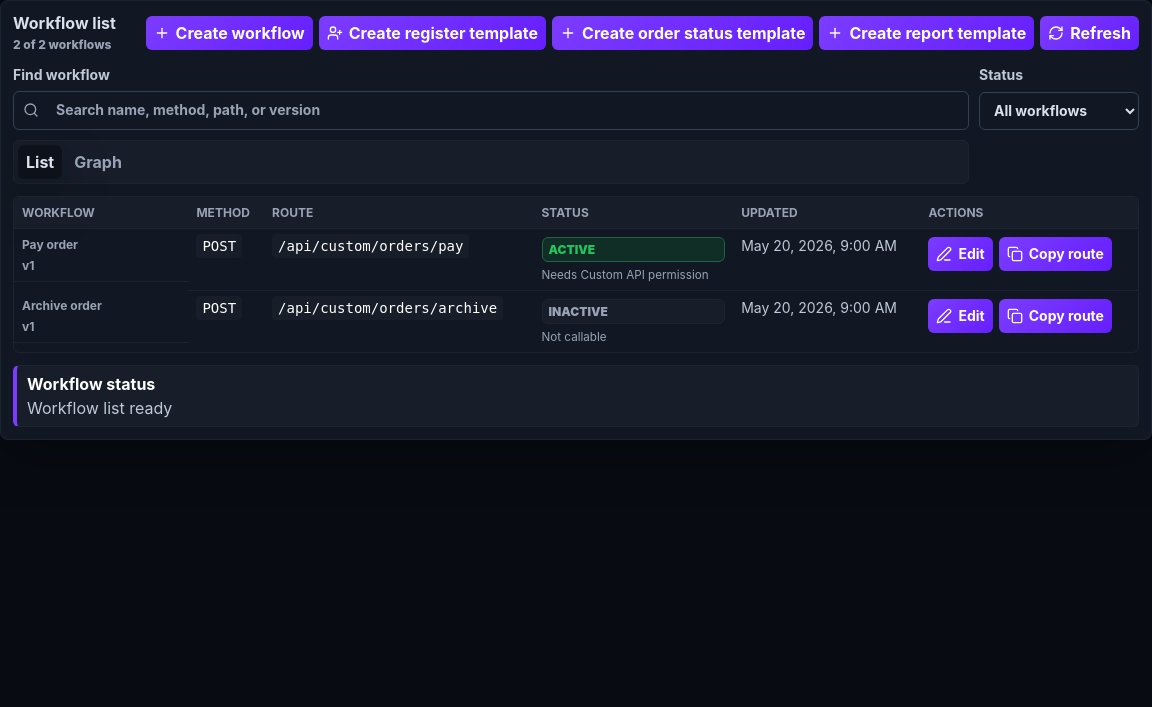
it: WorkflowManager › runs a workflow test from the edit panel
Click the button "Edit" in the row of "Pay order": (961, 254) [928, 237, 993, 271]
(page scrolled)
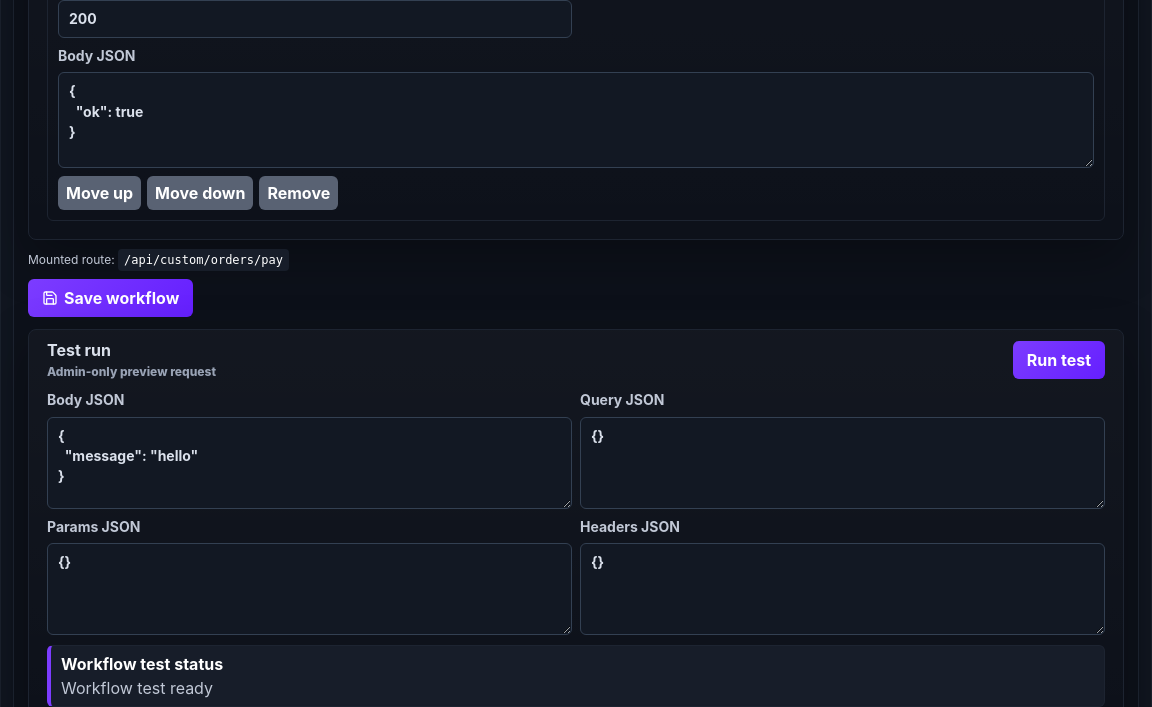
Click the button "Run test": (1059, 360) [1013, 341, 1105, 379]
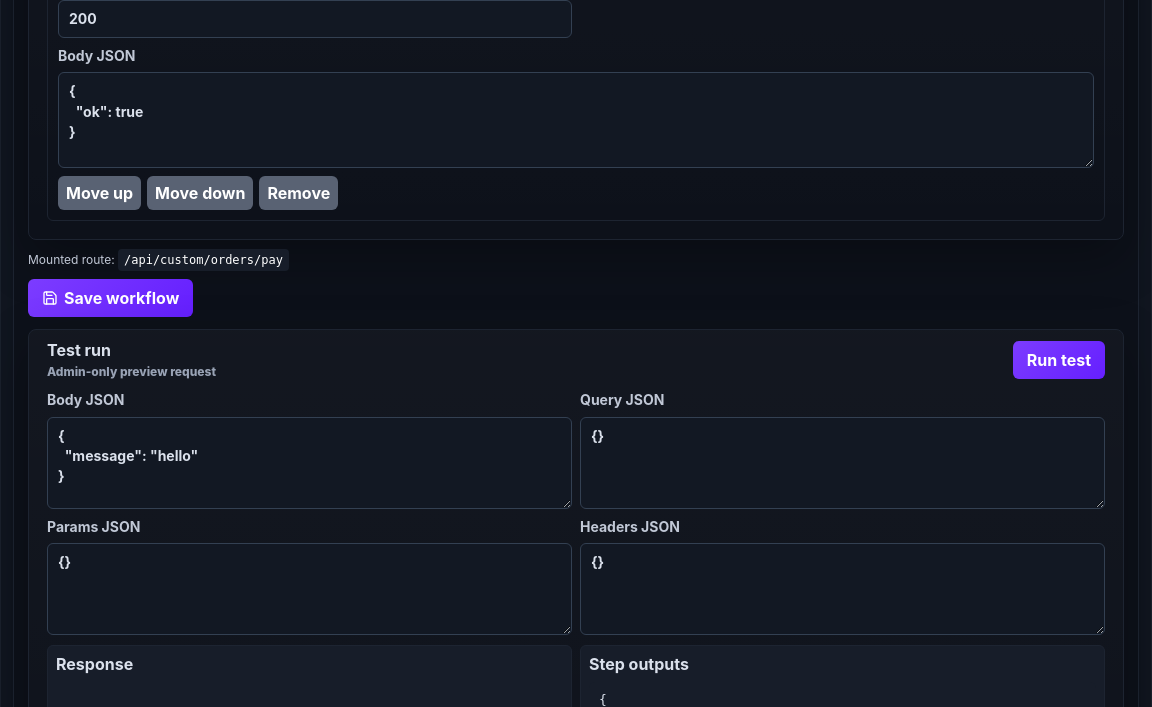
Expected: the text "Step outputs" is shown, [589, 654, 689, 674]
